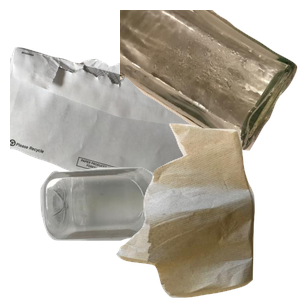glass: (120, 10, 300, 153)
paper: (10, 45, 250, 225)
plastic: (38, 165, 255, 300)
trash: (114, 121, 300, 300)
